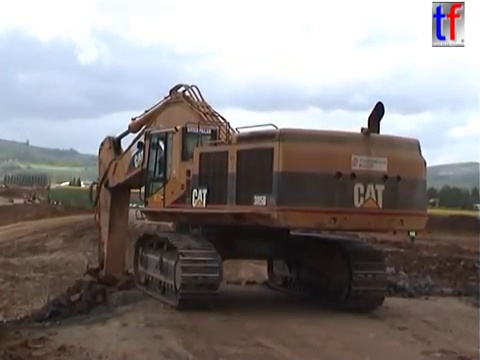excavator: (72, 79, 433, 317), (20, 186, 47, 208)
worker: (406, 218, 420, 245)
